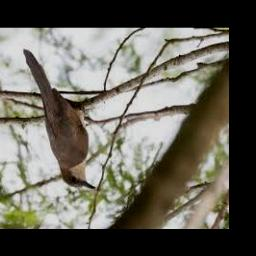Cuckoo: (23, 50, 95, 189)
